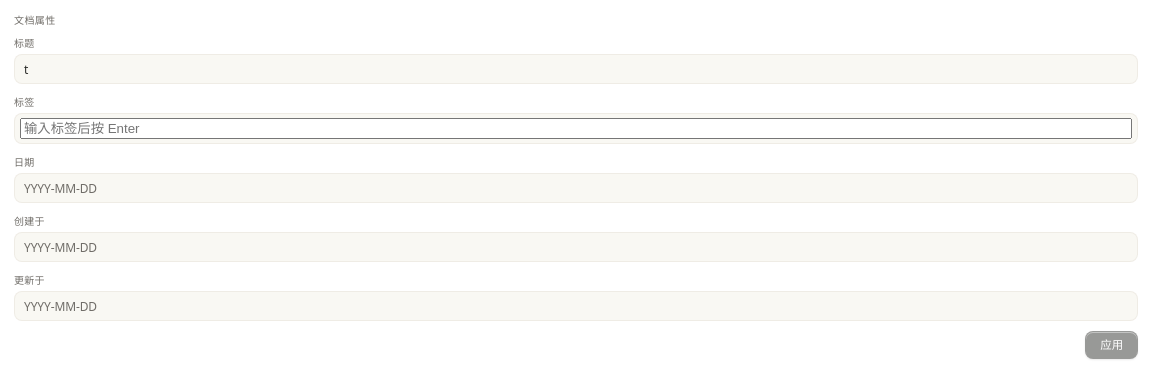
Test: FrontmatterPanel › selects a tag suggestion with Enter before adding it
Type "写" into the dropdown with class "fm-tag-input" at point(576, 128), box [20,118,1132,139]
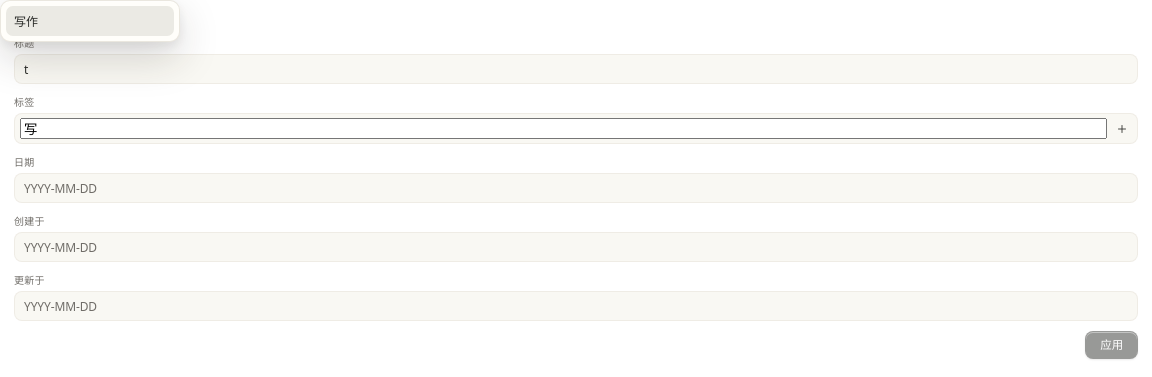
Press Enter in the dropdown with class "fm-tag-input", box [20,118,1107,139]
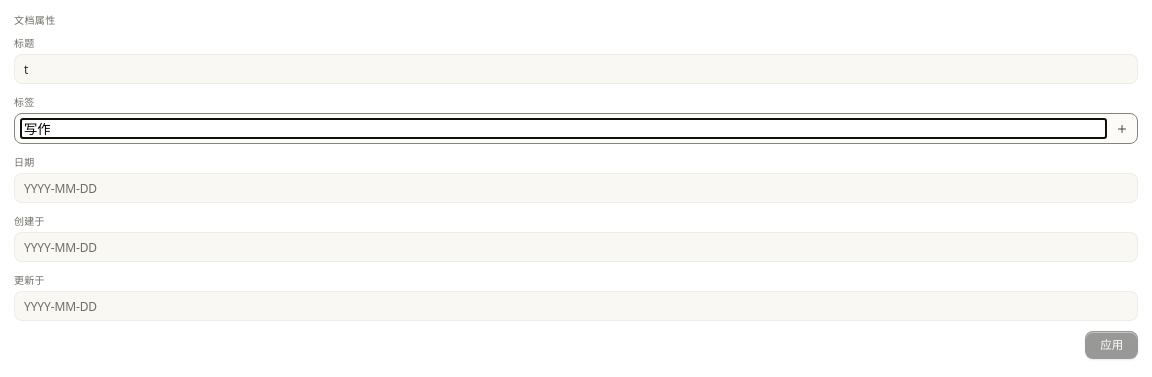
Check: the dropdown with class "fm-tag-input" holds "写作", box [20,118,1107,139]
